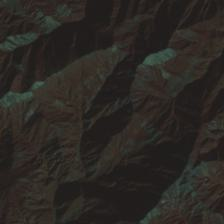landslides: (42, 100, 83, 122), (151, 117, 175, 140), (132, 95, 149, 111), (136, 34, 147, 54), (17, 156, 37, 165), (65, 101, 81, 111), (161, 18, 171, 34), (142, 74, 157, 84), (164, 213, 179, 221), (214, 168, 221, 184), (153, 65, 161, 78)
